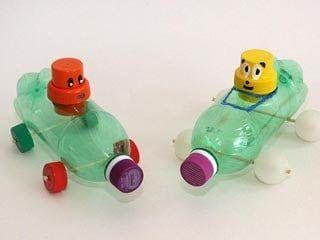HDPE: (47, 56, 91, 116), (233, 48, 277, 94), (105, 155, 144, 193), (180, 149, 217, 187), (253, 150, 291, 185), (42, 162, 68, 194), (295, 109, 320, 141), (11, 123, 35, 153), (175, 128, 195, 163), (115, 139, 140, 164)
PETE: (191, 59, 308, 175), (13, 68, 131, 182)
